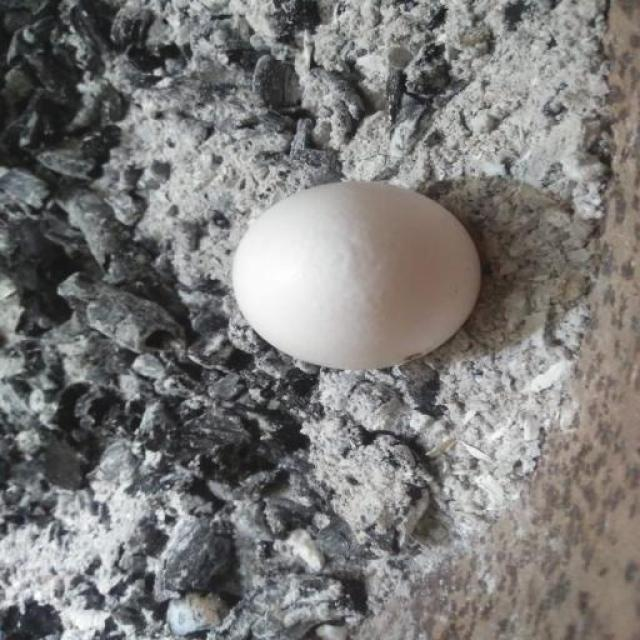telur: (231, 180, 483, 370)
